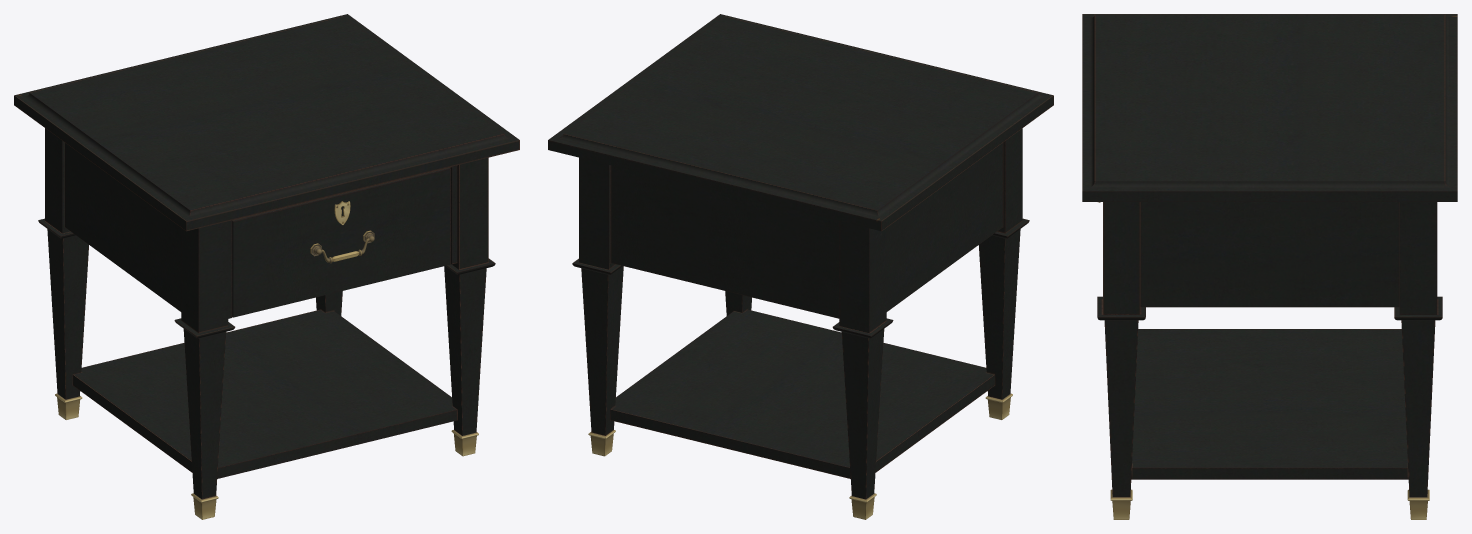
The model's file is example84.gltf.
3 views of the same model, side by side, from view 1: azimuth 30°, elevation 25°; view 2: azimuth 150°, elevation 25°; view 3: azimuth 270°, elevation 25° (orthographic). The views are drawn at different scales.
Size of the model in its own units: 61.5 by 56.5 by 55.
2 materials, 2 textured.
